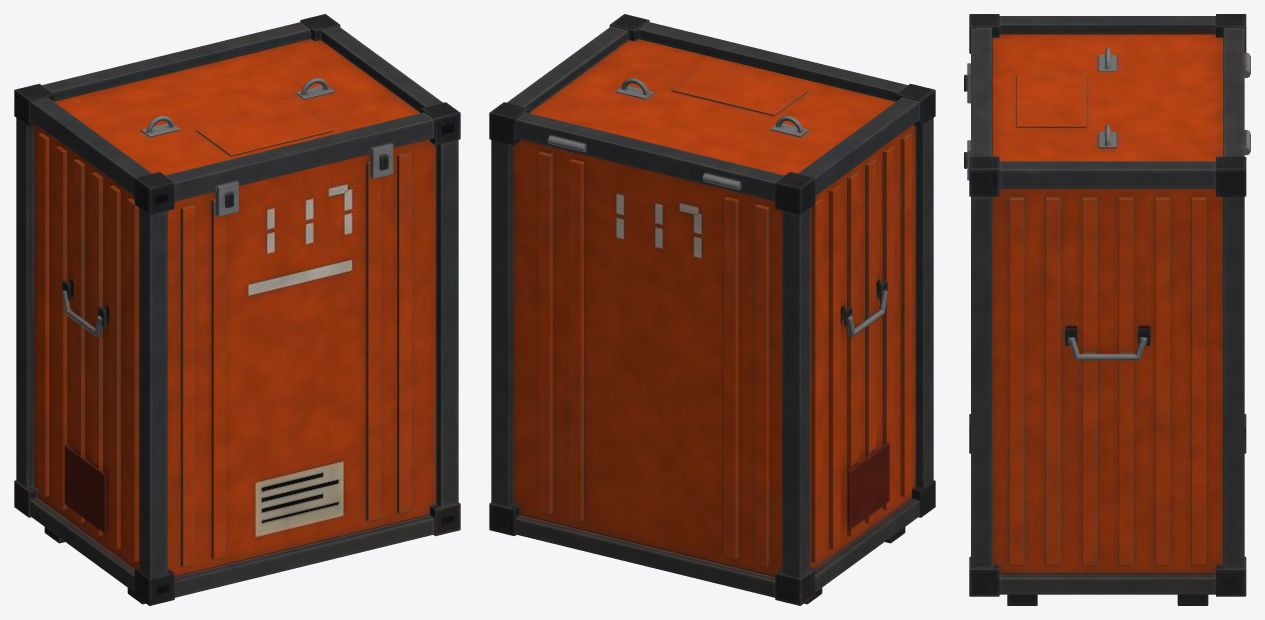
File: crate_tall.glb
3 views of the same model, side by side, from view 1: azimuth 30°, elevation 25°; view 2: azimuth 150°, elevation 25°; view 3: azimuth 270°, elevation 25° (orthographic). The views are drawn at different scales.
Visible parts, largest first — view 1: crate_tall; view 2: crate_tall; view 3: crate_tall.
Part boxes in pixels (box(x1,y1,x2,y2)): crate_tall: box(14, 14, 460, 605); crate_tall: box(489, 14, 935, 605); crate_tall: box(964, 14, 1250, 605).
Bounding box in the file's own units: 1.22 × 1.62 × 0.942.
1 material, 1 textured.
